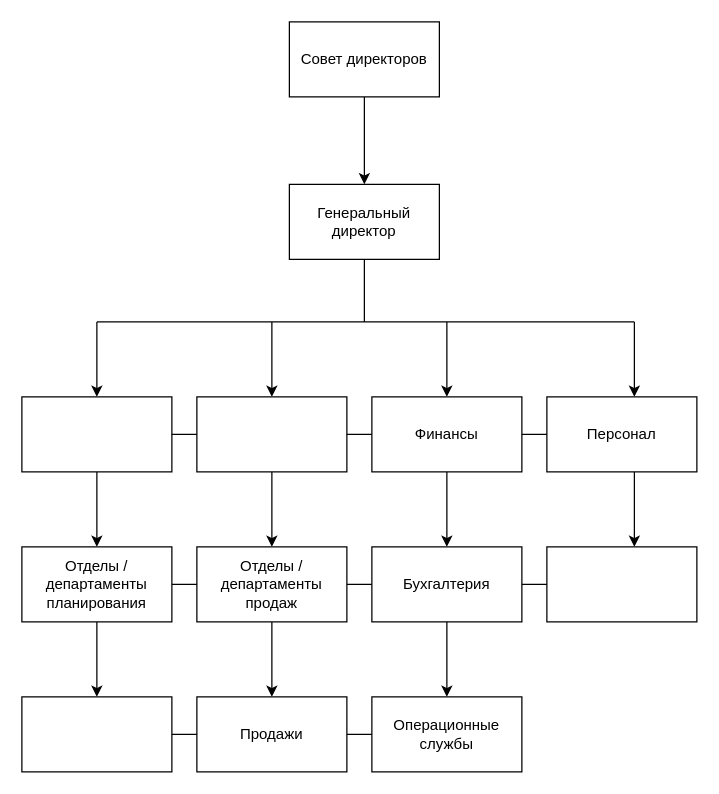
Some shapes in this 719 by 794 pixel diagram are drawn without their labels. The centre of each missing label's shape, as x and y in pixels:
Маркетинг: the point at 271,434
Отдел кадров: the point at 621,584
Производственные бригады: the point at 96,734
Производство: the point at 96,434
